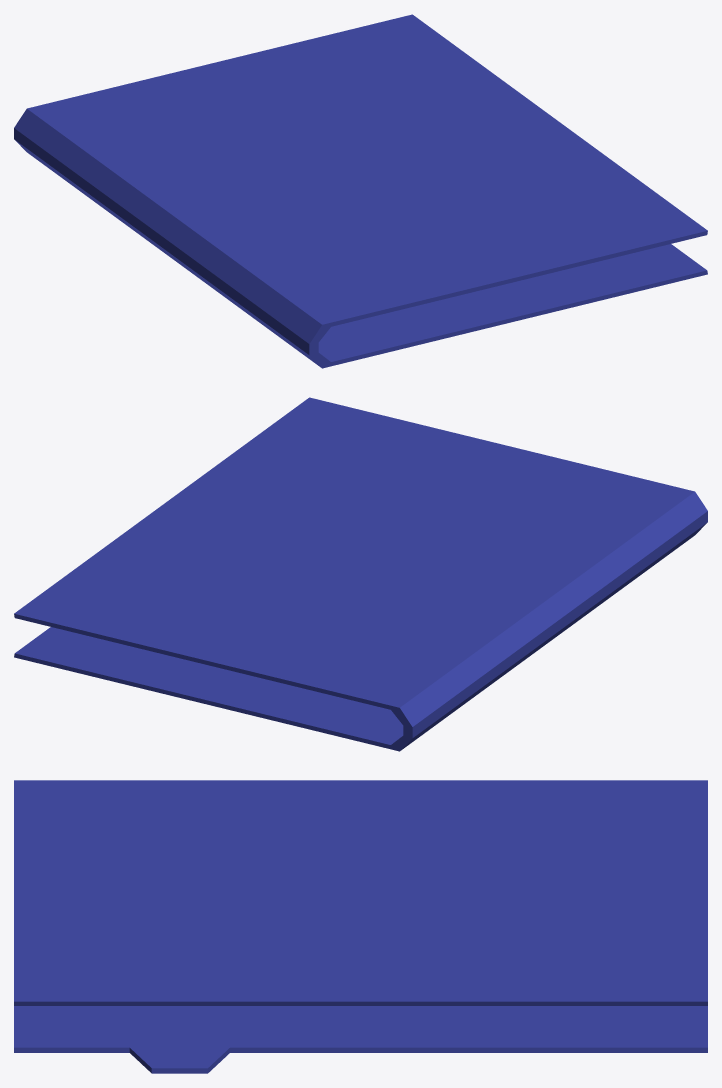
File: Folder_01.fbx
3 views of the same model, one above another, from view 1: azimuth 30°, elevation 25°; view 2: azimuth 150°, elevation 25°; view 3: azimuth 270°, elevation 25° (orthographic). The views are drawn at different scales.
Parts seen in each view (by area): view 1: Folder_01; view 2: Folder_01; view 3: Folder_01.
Part boxes in pixels (<box>): Folder_01: <box>14,14,707,368</box>; Folder_01: <box>14,397,707,751</box>; Folder_01: <box>14,780,707,1073</box>.
Bounding box in the file's own units: 24.06 × 2.31 × 28.33.
